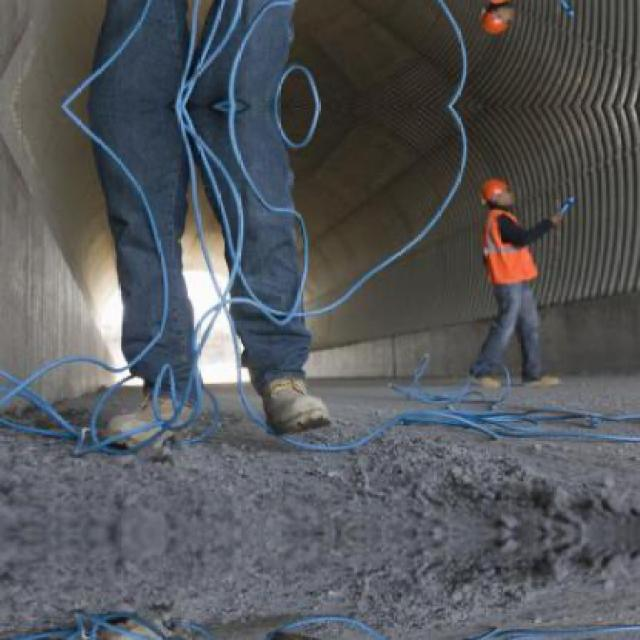Reflective-Jacket: (479, 208, 543, 295)
Safety-Helmet: (474, 171, 520, 210)
